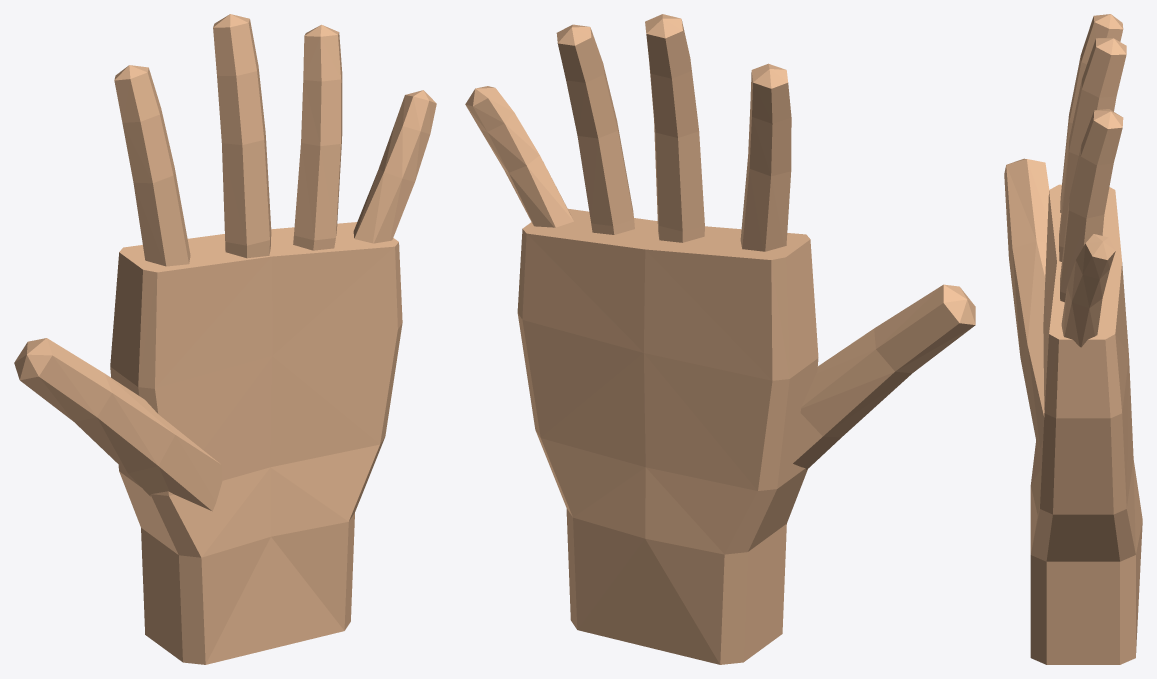
File: KANJI_09_TE.fbx
3 renders of one model, left to right at view 1: azimuth 30°, elevation 25°; view 2: azimuth 150°, elevation 25°; view 3: azimuth 270°, elevation 25°, orthographic. The views are drawn at different scales.
Parts seen in each view (by area): view 1: SM_KANJI_09_Te; view 2: SM_KANJI_09_Te; view 3: SM_KANJI_09_Te.
Part boxes in pixels (<box>): SM_KANJI_09_Te: <box>14,14,436,664</box>; SM_KANJI_09_Te: <box>465,14,975,664</box>; SM_KANJI_09_Te: <box>1004,14,1142,664</box>.
Bounding box in the file's own units: 0.22 × 0.28 × 0.06.
